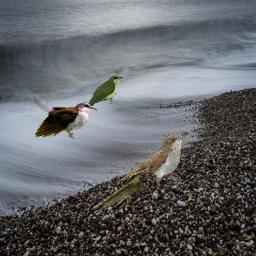Cuckoo: (92, 132, 190, 210), (34, 78, 97, 140), (76, 75, 124, 125)
